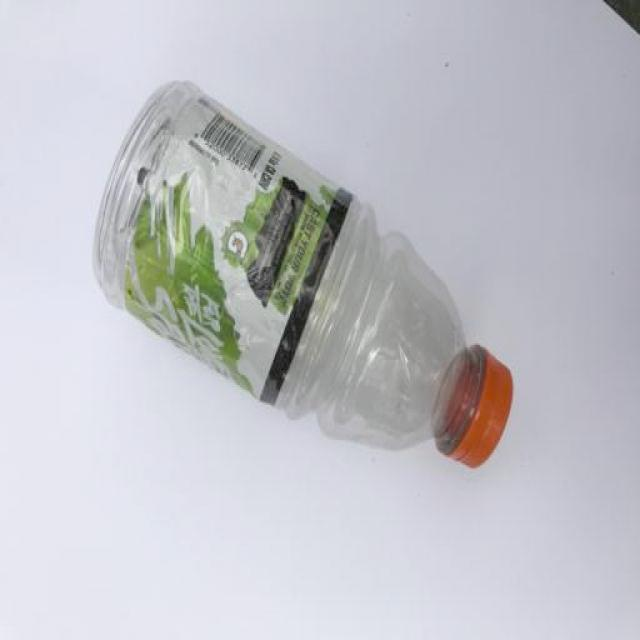bottle: (90, 79, 514, 474)
